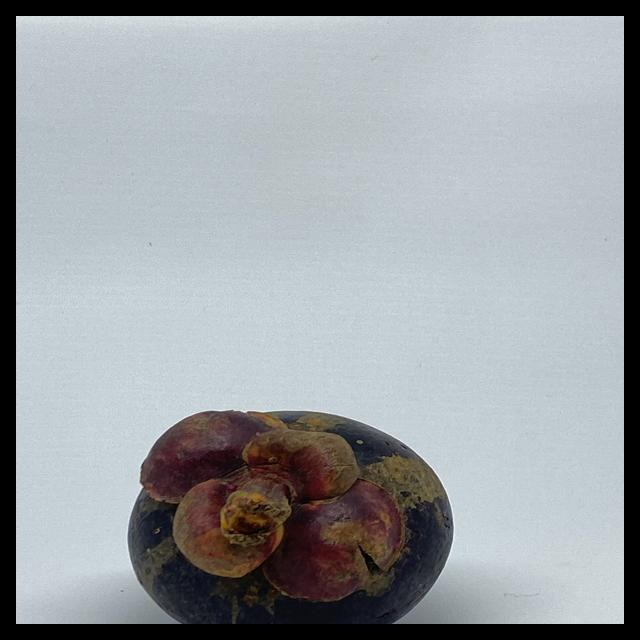mangosteen: (128, 374, 478, 624)
